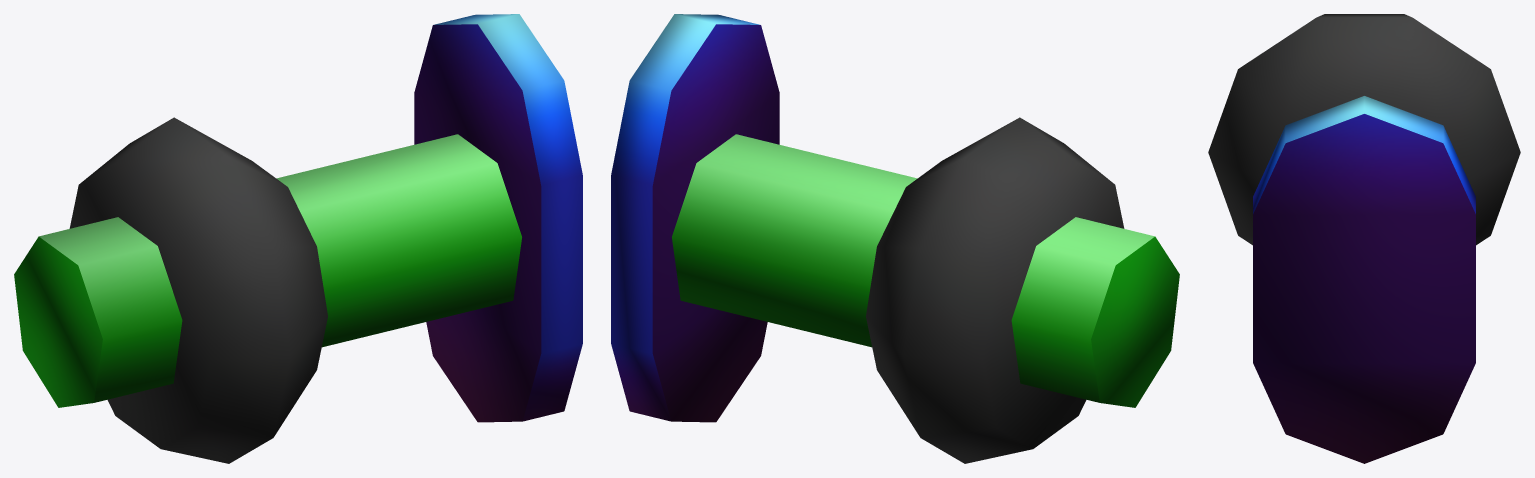
The model's file is F1_AXIS_RR.fbx.
The picture shows the model from 3 angles, left to right: view 1: azimuth 30°, elevation 25°; view 2: azimuth 150°, elevation 25°; view 3: azimuth 270°, elevation 25°; orthographic projection. The views are drawn at different scales.
Parts seen in each view (by area): view 1: F1_AXIS_RR; view 2: F1_AXIS_RR; view 3: F1_AXIS_RR.
Part boxes in pixels (x1,y1,x2,y2): F1_AXIS_RR: (14,14,582,463); F1_AXIS_RR: (611,14,1179,463); F1_AXIS_RR: (1208,14,1520,463).
Bounding box in the file's own units: 1146 × 946 × 765.
